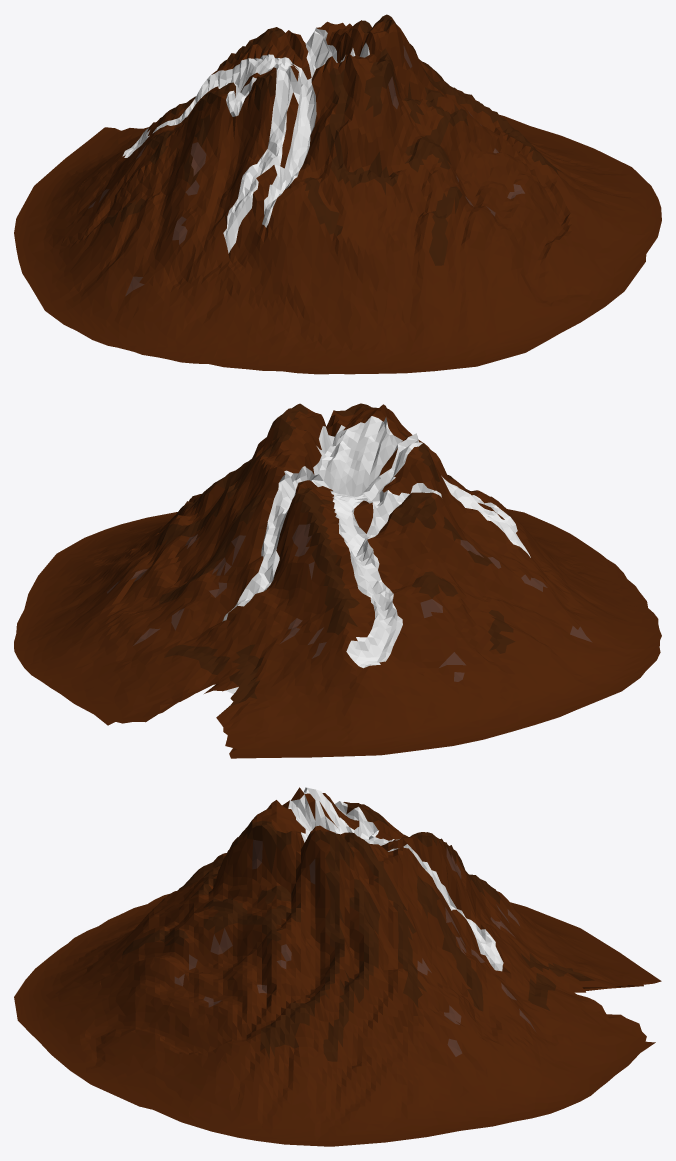
File: Volcan.fbx
3 renders of one model, top to bottom at view 1: azimuth 30°, elevation 25°; view 2: azimuth 150°, elevation 25°; view 3: azimuth 270°, elevation 25°, orthographic. The views are drawn at different scales.
Visible parts, largest first — view 1: Landscape; view 2: Landscape; view 3: Landscape.
Boxes of the visible parts, x1,y1,x2,y2 form: Landscape: (14, 14, 661, 374); Landscape: (14, 403, 661, 758); Landscape: (14, 787, 661, 1146).
Size of the model in its own units: 210 by 72.29 by 210.
